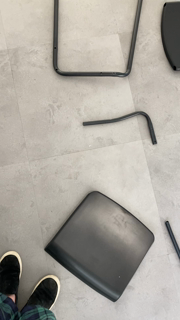L pipe: (81, 111, 159, 147)
Seat: (42, 187, 157, 306)
